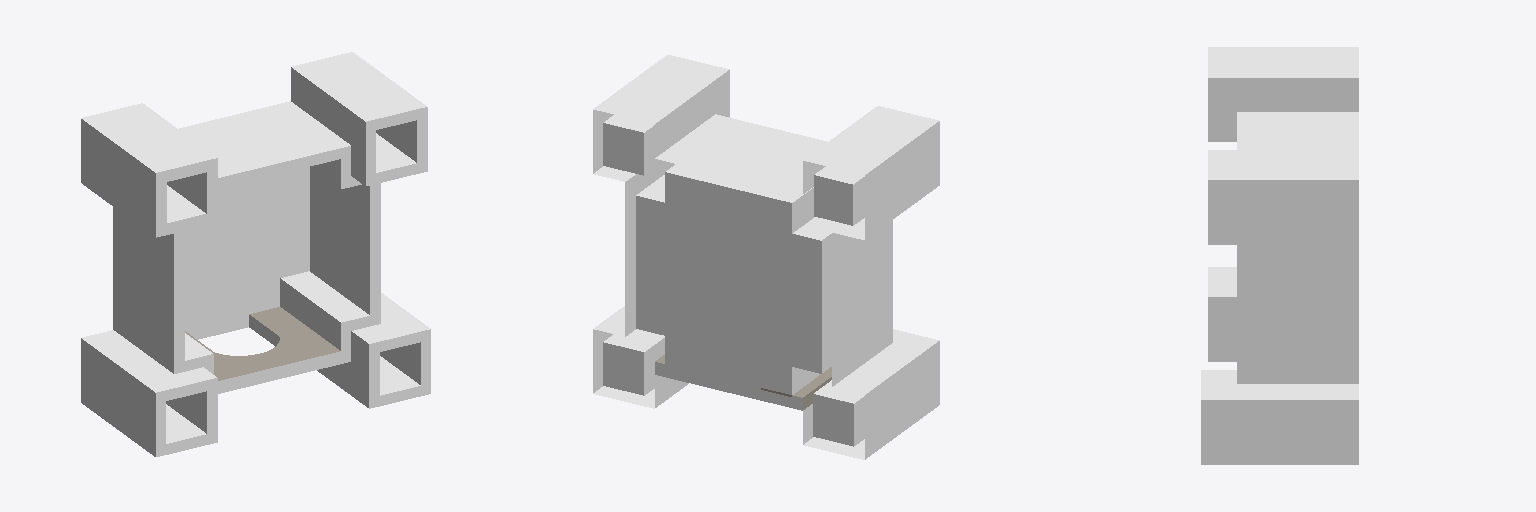
Rendered from fortress_textured_sketchup.obj.
The picture shows the model from 3 angles: view 1: azimuth 30°, elevation 25°; view 2: azimuth 150°, elevation 25°; view 3: azimuth 270°, elevation 25°; orthographic projection.
Parts seen in each view (by area): view 1: Mesh1 Model; view 2: Mesh1 Model; view 3: Mesh1 Model.
Part boxes in pixels (bbox=[...]): Mesh1 Model: bbox=[81, 52, 430, 456]; Mesh1 Model: bbox=[593, 55, 939, 459]; Mesh1 Model: bbox=[1201, 47, 1358, 464].
Size of the model in its own units: 13.17 by 13.17 by 6.6.